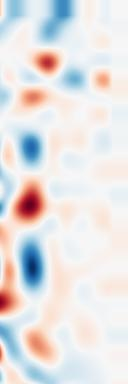filament: (7, 172, 55, 234)
